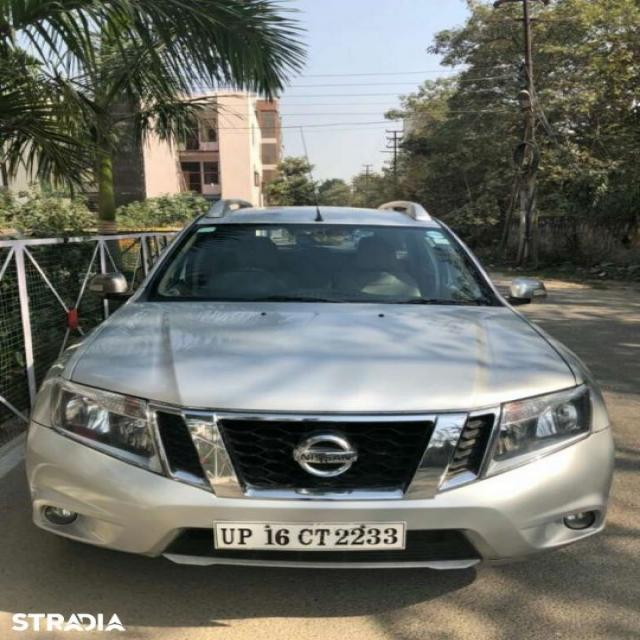license_plate: (211, 517, 413, 557)
